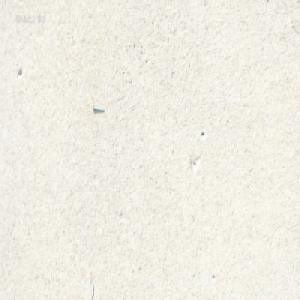Nail: (91, 103, 104, 111)
